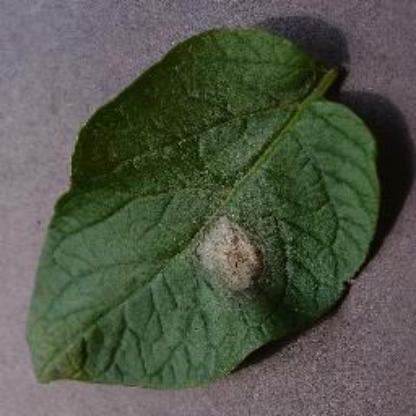Late-Blight: (20, 19, 400, 396)
